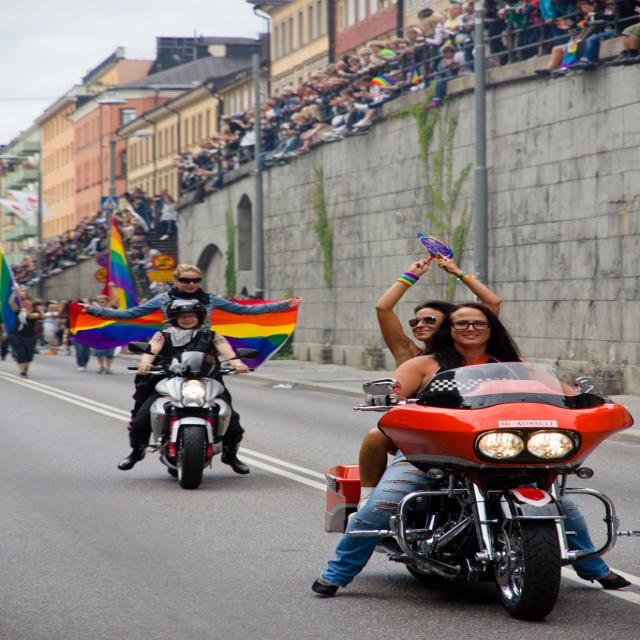Motorbikes: (305, 299, 623, 623), (136, 296, 258, 495)
